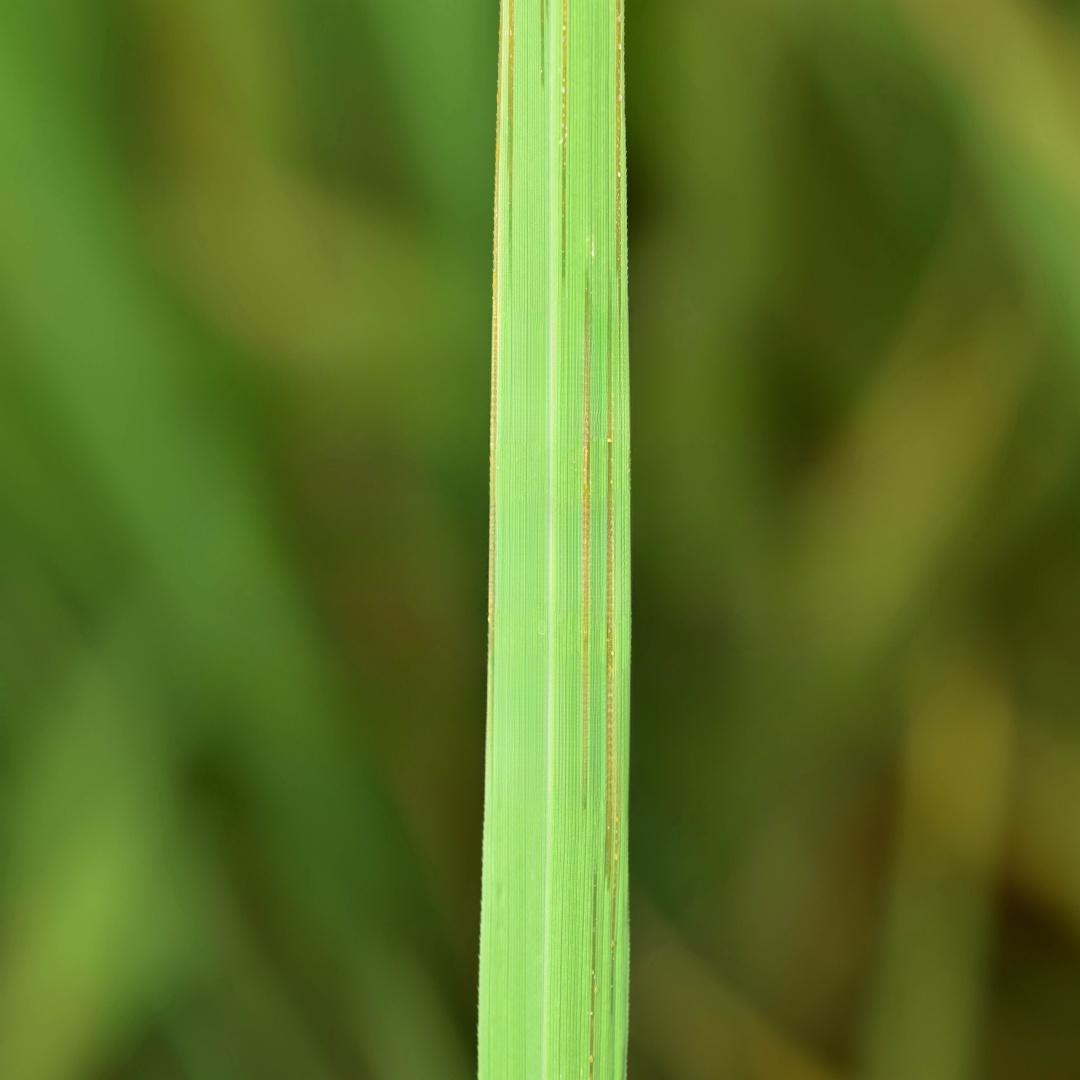BLS: (603, 300, 622, 1014), (488, 1, 503, 654), (582, 271, 590, 811), (561, 0, 568, 299), (615, 0, 621, 342), (507, 0, 514, 281), (590, 872, 596, 1079), (541, 0, 545, 91)
LEAF: (478, 0, 630, 1079)
